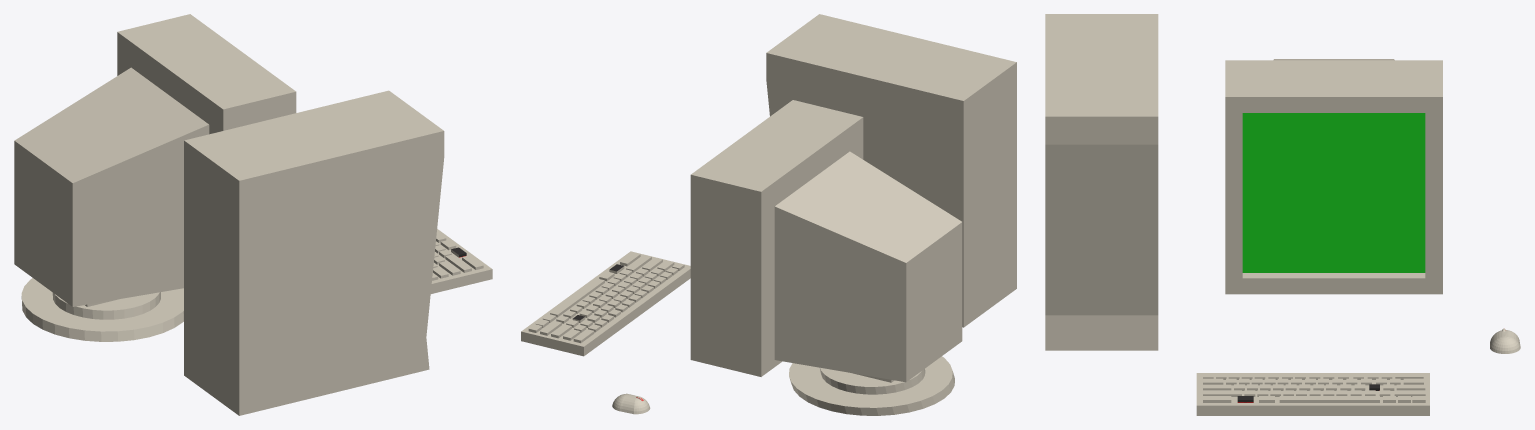
Rendered from computergreen.fbx.
The picture shows the model from 3 angles, left to right: view 1: azimuth 30°, elevation 25°; view 2: azimuth 150°, elevation 25°; view 3: azimuth 270°, elevation 25°; orthographic projection. The views are drawn at different scales.
Parts seen in each view (by area): view 1: Cube.016, Cube.018, Cube.017; view 2: Cube.018, Cube.016, Cube.017, Sphere.002; view 3: Cube.018, Cube.016, Cube.017, Sphere.002.
Part boxes in pixels (left/top/right/bottom): Cube.016: left=184, top=90, right=444, bottom=415; Cube.018: left=14, top=14, right=296, bottom=341; Cube.017: left=430, top=229, right=492, bottom=293; Cube.018: left=690, top=100, right=962, bottom=415; Cube.016: left=766, top=14, right=1016, bottom=327; Cube.017: left=521, top=251, right=690, bottom=356; Sphere.002: left=612, top=393, right=650, bottom=414; Cube.018: left=1225, top=59, right=1442, bottom=294; Cube.016: left=1045, top=14, right=1158, bottom=350; Cube.017: left=1196, top=373, right=1429, bottom=415; Sphere.002: left=1490, top=328, right=1520, bottom=353.
Bounding box in the file's own units: 131 × 75.24 × 133.
3 materials, 3 textured.
